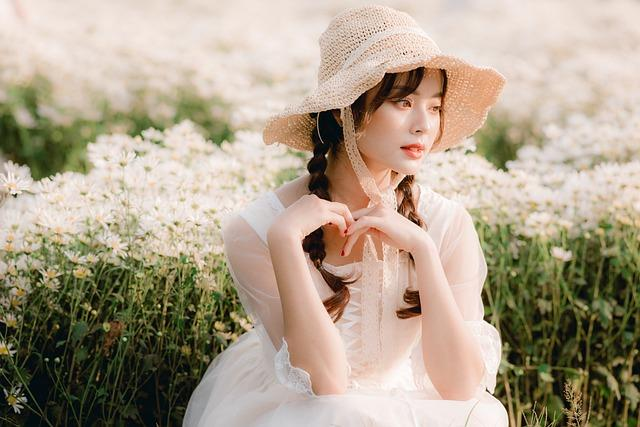Non_Gorille: (190, 0, 542, 427)
